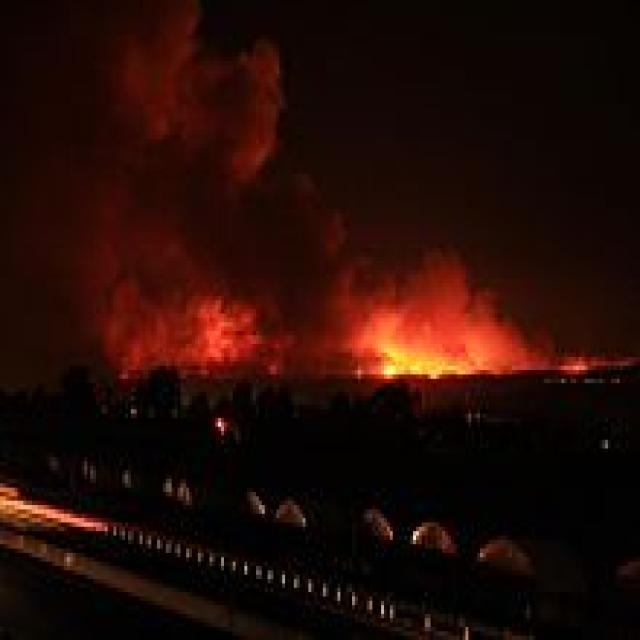Fire: (363, 328, 501, 387)
Smoke: (1, 0, 598, 387)
